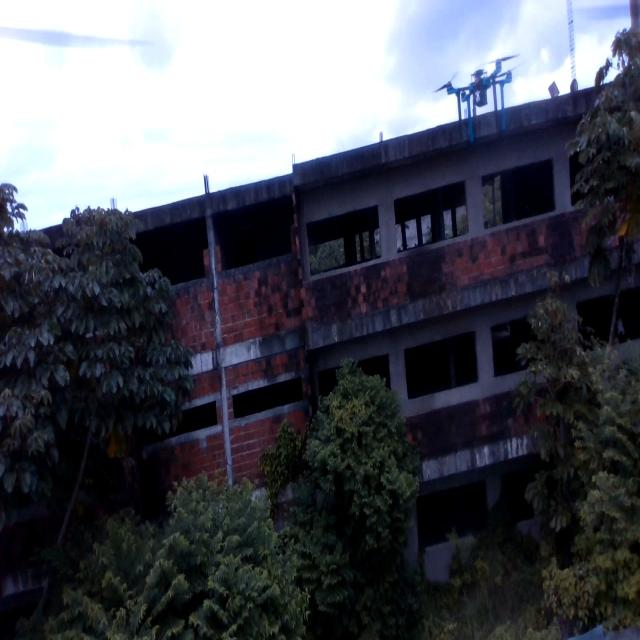-uav-: (429, 42, 524, 146)
